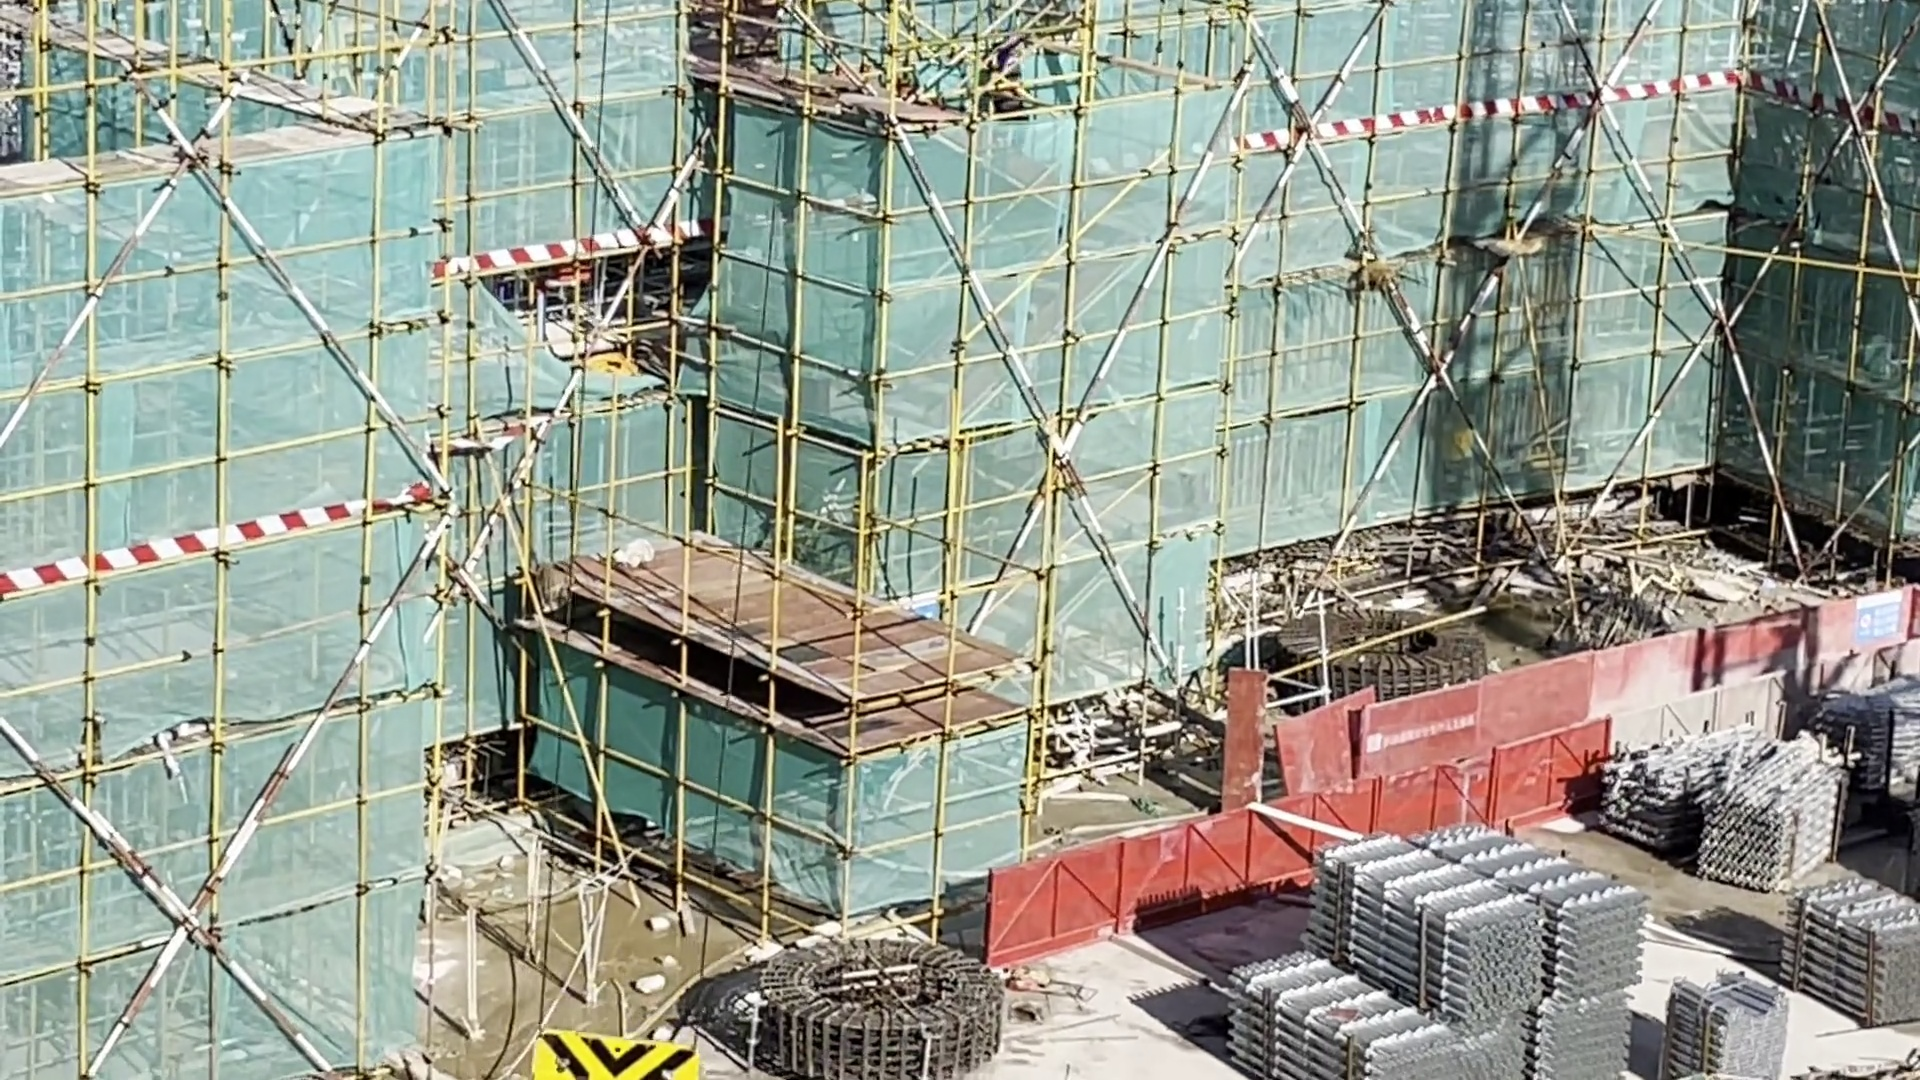fence: (985, 641, 1920, 968)
hook: (522, 996, 703, 1080)
scaffold: (1246, 823, 1643, 1080), (1588, 724, 1832, 893), (1782, 876, 1920, 1025), (1664, 965, 1785, 1080)
